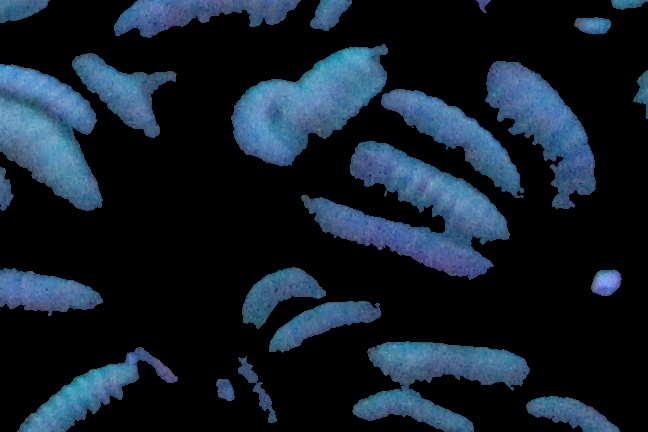larvae: (459, 46, 602, 258), (292, 189, 509, 307), (347, 132, 527, 255), (1, 91, 125, 231), (385, 86, 527, 200), (356, 336, 542, 394), (282, 45, 386, 142), (74, 45, 164, 150), (1, 269, 114, 350), (22, 362, 144, 432), (1, 61, 99, 132), (230, 77, 303, 172), (231, 259, 331, 322), (344, 390, 486, 432), (269, 303, 385, 348), (521, 390, 630, 432), (1, 144, 27, 244), (572, 11, 611, 39)
